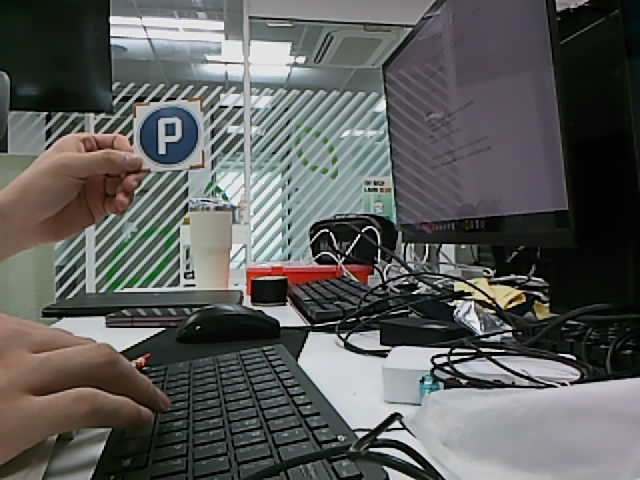park: (137, 106, 201, 167)
